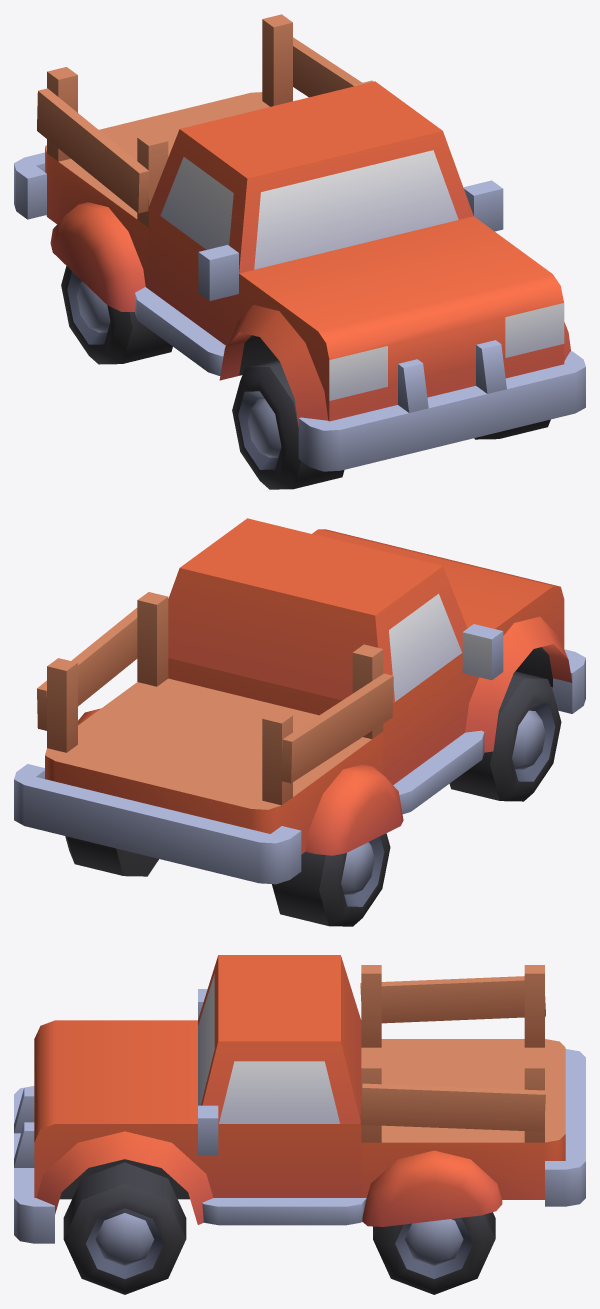
The model's file is vehicle-truck-red.glb.
3 views of the same model, one above another, from view 1: azimuth 30°, elevation 25°; view 2: azimuth 150°, elevation 25°; view 3: azimuth 270°, elevation 25° (orthographic). The views are drawn at different scales.
Visible parts, largest first — view 1: body, wheel-front-right, wheel-back-right; view 2: body, wheel-front-right, wheel-back-right, wheel-back-left; view 3: body, wheel-front-left, wheel-back-left.
Boxes of the visible parts, bbox=[...] form: body: bbox=[14, 14, 585, 471]; wheel-front-right: bbox=[232, 359, 344, 489]; wheel-back-right: bbox=[61, 266, 172, 364]; body: bbox=[14, 518, 585, 884]; wheel-front-right: bbox=[449, 671, 561, 801]; wheel-back-right: bbox=[272, 833, 390, 926]; wheel-back-left: bbox=[65, 836, 158, 876]; body: bbox=[14, 955, 585, 1243]; wheel-front-left: bbox=[63, 1162, 186, 1294]; wheel-back-left: bbox=[373, 1212, 495, 1294].
Size of the model in its own units: 1.5 by 1.3 by 2.8.
Materials: 1 (1 with a texture image).
